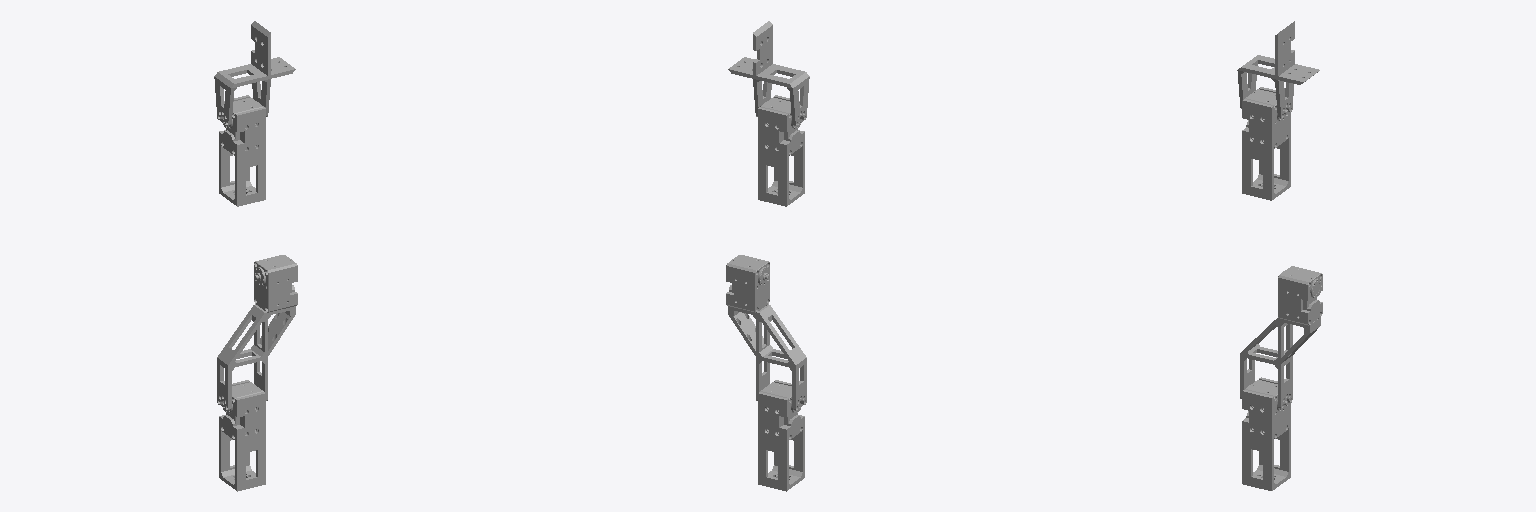
The robot description file, URDF, robot "manipulator":
<?xml version="1.0" ?>
<!-- =================================================================================== -->
<!-- |    This document was autogenerated by xacro from manipulator.xacro              | -->
<!-- |    EDITING THIS FILE BY HAND IS NOT RECOMMENDED                                 | -->
<!-- =================================================================================== -->
<robot name="manipulator">
  <material name="silver">
    <color rgba="0.700 0.700 0.700 1.000"/>
  </material>
  <transmission name="motor1_tran">
    <type>transmission_interface/SimpleTransmission</type>
    <joint name="motor1">
      <hardwareInterface>hardware_interface/EffortJointInterface</hardwareInterface>
    </joint>
    <actuator name="motor1_actr">
      <hardwareInterface>hardware_interface/EffortJointInterface</hardwareInterface>
      <mechanicalReduction>1</mechanicalReduction>
    </actuator>
  </transmission>
  <transmission name="motor2_tran">
    <type>transmission_interface/SimpleTransmission</type>
    <joint name="motor2">
      <hardwareInterface>hardware_interface/EffortJointInterface</hardwareInterface>
    </joint>
    <actuator name="motor2_actr">
      <hardwareInterface>hardware_interface/EffortJointInterface</hardwareInterface>
      <mechanicalReduction>1</mechanicalReduction>
    </actuator>
  </transmission>
  <transmission name="motor3_tran">
    <type>transmission_interface/SimpleTransmission</type>
    <joint name="motor3">
      <hardwareInterface>hardware_interface/EffortJointInterface</hardwareInterface>
    </joint>
    <actuator name="motor3_actr">
      <hardwareInterface>hardware_interface/EffortJointInterface</hardwareInterface>
      <mechanicalReduction>1</mechanicalReduction>
    </actuator>
  </transmission>
  <transmission name="motor4_tran">
    <type>transmission_interface/SimpleTransmission</type>
    <joint name="motor4">
      <hardwareInterface>hardware_interface/EffortJointInterface</hardwareInterface>
    </joint>
    <actuator name="motor4_actr">
      <hardwareInterface>hardware_interface/EffortJointInterface</hardwareInterface>
      <mechanicalReduction>1</mechanicalReduction>
    </actuator>
  </transmission>
  <transmission name="motor5_tran">
    <type>transmission_interface/SimpleTransmission</type>
    <joint name="motor5">
      <hardwareInterface>hardware_interface/EffortJointInterface</hardwareInterface>
    </joint>
    <actuator name="motor5_actr">
      <hardwareInterface>hardware_interface/EffortJointInterface</hardwareInterface>
      <mechanicalReduction>1</mechanicalReduction>
    </actuator>
  </transmission>
  <transmission name="motor6_tran">
    <type>transmission_interface/SimpleTransmission</type>
    <joint name="motor6">
      <hardwareInterface>hardware_interface/EffortJointInterface</hardwareInterface>
    </joint>
    <actuator name="motor6_actr">
      <hardwareInterface>hardware_interface/EffortJointInterface</hardwareInterface>
      <mechanicalReduction>1</mechanicalReduction>
    </actuator>
  </transmission>
  <gazebo>
    <plugin filename="libgazebo_ros_control.so" name="control"/>
  </gazebo>
  <gazebo reference="base_link">
    <material>Gazebo/Silver</material>
    <mu1>0.2</mu1>
    <mu2>0.2</mu2>
    <selfCollide>true</selfCollide>
    <gravity>true</gravity>
  </gazebo>
  <gazebo reference="case1_1">
    <material>Gazebo/Silver</material>
    <mu1>0.2</mu1>
    <mu2>0.2</mu2>
    <selfCollide>true</selfCollide>
  </gazebo>
  <gazebo reference="base2_1">
    <material>Gazebo/Silver</material>
    <mu1>0.2</mu1>
    <mu2>0.2</mu2>
    <selfCollide>true</selfCollide>
  </gazebo>
  <gazebo reference="link1_1">
    <material>Gazebo/Silver</material>
    <mu1>0.2</mu1>
    <mu2>0.2</mu2>
    <selfCollide>true</selfCollide>
  </gazebo>
  <gazebo reference="case2_1">
    <material>Gazebo/Silver</material>
    <mu1>0.2</mu1>
    <mu2>0.2</mu2>
    <selfCollide>true</selfCollide>
  </gazebo>
  <gazebo reference="link2_1">
    <material>Gazebo/Silver</material>
    <mu1>0.2</mu1>
    <mu2>0.2</mu2>
    <selfCollide>true</selfCollide>
  </gazebo>
  <gazebo reference="case3_1">
    <material>Gazebo/Silver</material>
    <mu1>0.2</mu1>
    <mu2>0.2</mu2>
    <selfCollide>true</selfCollide>
  </gazebo>
  <gazebo reference="link3_1">
    <material>Gazebo/Silver</material>
    <mu1>0.2</mu1>
    <mu2>0.2</mu2>
    <selfCollide>true</selfCollide>
  </gazebo>
  <gazebo reference="case4_1">
    <material>Gazebo/Silver</material>
    <mu1>0.2</mu1>
    <mu2>0.2</mu2>
    <selfCollide>true</selfCollide>
  </gazebo>
  <gazebo reference="link4_1">
    <material>Gazebo/Silver</material>
    <mu1>0.2</mu1>
    <mu2>0.2</mu2>
    <selfCollide>true</selfCollide>
  </gazebo>
  <gazebo reference="case5_1">
    <material>Gazebo/Silver</material>
    <mu1>0.2</mu1>
    <mu2>0.2</mu2>
    <selfCollide>true</selfCollide>
  </gazebo>
  <gazebo reference="link5_1">
    <material>Gazebo/Silver</material>
    <mu1>0.2</mu1>
    <mu2>0.2</mu2>
    <selfCollide>true</selfCollide>
  </gazebo>
  <gazebo reference="case6_1">
    <material>Gazebo/Silver</material>
    <mu1>0.2</mu1>
    <mu2>0.2</mu2>
    <selfCollide>true</selfCollide>
  </gazebo>
  <gazebo reference="link6_1">
    <material>Gazebo/Silver</material>
    <mu1>0.2</mu1>
    <mu2>0.2</mu2>
    <selfCollide>true</selfCollide>
  </gazebo>
  <gazebo reference="link7_1">
    <material>Gazebo/Silver</material>
    <mu1>0.2</mu1>
    <mu2>0.2</mu2>
    <selfCollide>true</selfCollide>
  </gazebo>
  <link name="base_link">
    <inertial>
      <origin rpy="0 0 0" xyz="0.02239590734911897 -0.01176063731820371 -0.05451857845527507"/>
      <mass value="0.408609033804223"/>
      <inertia ixx="0.001136" ixy="0.0" ixz="8.9e-05" iyy="0.000464" iyz="-1e-06" izz="0.000843"/>
    </inertial>
    <visual>
      <origin rpy="0 0 0" xyz="0 0 0"/>
      <geometry>
        <mesh filename="package://manipulator/meshes/base_link.stl" scale="0.001 0.001 0.001"/>
      </geometry>
      <material name="silver"/>
    </visual>
    <collision>
      <origin rpy="0 0 0" xyz="0 0 0"/>
      <geometry>
        <mesh filename="package://manipulator/meshes/base_link.stl" scale="0.001 0.001 0.001"/>
      </geometry>
    </collision>
  </link>
  <link name="case1_1">
    <inertial>
      <origin rpy="0 0 0" xyz="-0.014250070484127172 0.01640828355791238 -0.005433634059177349"/>
      <mass value="0.34080653415518675"/>
      <inertia ixx="9.4e-05" ixy="-0.0" ixz="-0.0" iyy="5.5e-05" iyz="0.0" izz="8.2e-05"/>
    </inertial>
    <visual>
      <origin rpy="0 0 0" xyz="-0.012868 0.027801 -0.001527"/>
      <geometry>
        <mesh filename="package://manipulator/meshes/case1_1.stl" scale="0.001 0.001 0.001"/>
      </geometry>
      <material name="silver"/>
    </visual>
    <collision>
      <origin rpy="0 0 0" xyz="-0.012868 0.027801 -0.001527"/>
      <geometry>
        <mesh filename="package://manipulator/meshes/case1_1.stl" scale="0.001 0.001 0.001"/>
      </geometry>
    </collision>
  </link>
  <link name="base2_1">
    <inertial>
      <origin rpy="0 0 0" xyz="-0.009528048317381948 0.016040362681779042 -0.056045578455275115"/>
      <mass value="0.4086090338042252"/>
      <inertia ixx="0.001136" ixy="-0.0" ixz="-8.9e-05" iyy="0.000464" iyz="-1e-06" izz="0.000843"/>
    </inertial>
    <visual>
      <origin rpy="0 0 0" xyz="0.015632 0.027801 -0.001527"/>
      <geometry>
        <mesh filename="package://manipulator/meshes/base2_1.stl" scale="0.001 0.001 0.001"/>
      </geometry>
      <material name="silver"/>
    </visual>
    <collision>
      <origin rpy="0 0 0" xyz="0.015632 0.027801 -0.001527"/>
      <geometry>
        <mesh filename="package://manipulator/meshes/base2_1.stl" scale="0.001 0.001 0.001"/>
      </geometry>
    </collision>
  </link>
  <link name="link1_1">
    <inertial>
      <origin rpy="0 0 0" xyz="0.00041157170309191976 -1.4624828903732844e-07 0.0450438228157928"/>
      <mass value="0.2016099043724989"/>
      <inertia ixx="0.000258" ixy="-0.0" ixz="-2e-06" iyy="0.00023" iyz="-0.0" izz="6.9e-05"/>
    </inertial>
    <visual>
      <origin rpy="0 0 0" xyz="0.001382 -0.000199 -0.014527"/>
      <geometry>
        <mesh filename="package://manipulator/meshes/link1_1.stl" scale="0.001 0.001 0.001"/>
      </geometry>
      <material name="silver"/>
    </visual>
    <collision>
      <origin rpy="0 0 0" xyz="0.001382 -0.000199 -0.014527"/>
      <geometry>
        <mesh filename="package://manipulator/meshes/link1_1.stl" scale="0.001 0.001 0.001"/>
      </geometry>
    </collision>
  </link>
  <link name="case2_1">
    <inertial>
      <origin rpy="0 0 0" xyz="0.006566487292350457 0.014249853751715245 0.01640823797054204"/>
      <mass value="0.34080653415518675"/>
      <inertia ixx="8.2e-05" ixy="-0.0" ixz="0.0" iyy="9.4e-05" iyz="-0.0" izz="5.5e-05"/>
    </inertial>
    <visual>
      <origin rpy="0 0 0" xyz="0.007382 0.014051 -0.075277"/>
      <geometry>
        <mesh filename="package://manipulator/meshes/case2_1.stl" scale="0.001 0.001 0.001"/>
      </geometry>
      <material name="silver"/>
    </visual>
    <collision>
      <origin rpy="0 0 0" xyz="0.007382 0.014051 -0.075277"/>
      <geometry>
        <mesh filename="package://manipulator/meshes/case2_1.stl" scale="0.001 0.001 0.001"/>
      </geometry>
    </collision>
  </link>
  <link name="link2_1">
    <inertial>
      <origin rpy="0 0 0" xyz="-0.004213732758277829 -1.462482890274351e-07 0.05761392703177749"/>
      <mass value="0.18470002339388275"/>
      <inertia ixx="0.000144" ixy="0.0" ixz="-6.7e-05" iyy="0.000231" iyz="0.0" izz="0.000104"/>
    </inertial>
    <visual>
      <origin rpy="0 0 0" xyz="-0.017618 -0.000199 -0.103277"/>
      <geometry>
        <mesh filename="package://manipulator/meshes/link2_1.stl" scale="0.001 0.001 0.001"/>
      </geometry>
      <material name="silver"/>
    </visual>
    <collision>
      <origin rpy="0 0 0" xyz="-0.017618 -0.000199 -0.103277"/>
      <geometry>
        <mesh filename="package://manipulator/meshes/link2_1.stl" scale="0.001 0.001 0.001"/>
      </geometry>
    </collision>
  </link>
  <link name="case3_1">
    <inertial>
      <origin rpy="0 0 0" xyz="0.005433371739386662 0.00799985375170667 0.023658237970542173"/>
      <mass value="0.34080653415518675"/>
      <inertia ixx="8.2e-05" ixy="-0.0" ixz="-0.0" iyy="9.4e-05" iyz="0.0" izz="5.5e-05"/>
    </inertial>
    <visual>
      <origin rpy="0 0 0" xyz="-0.030618 0.007801 -0.198927"/>
      <geometry>
        <mesh filename="package://manipulator/meshes/case3_1.stl" scale="0.001 0.001 0.001"/>
      </geometry>
      <material name="silver"/>
    </visual>
    <collision>
      <origin rpy="0 0 0" xyz="-0.030618 0.007801 -0.198927"/>
      <geometry>
        <mesh filename="package://manipulator/meshes/case3_1.stl" scale="0.001 0.001 0.001"/>
      </geometry>
    </collision>
  </link>
  <link name="link3_1">
    <inertial>
      <origin rpy="0 0 0" xyz="0.0016650787321817323 -1.4624828901480414e-07 0.05671011320901989"/>
      <mass value="0.25106312786468626"/>
      <inertia ixx="0.000153" ixy="-0.0" ixz="6.5e-05" iyy="0.000286" iyz="0.0" izz="0.000215"/>
    </inertial>
    <visual>
      <origin rpy="0 0 0" xyz="-0.017618 -0.000199 -0.234177"/>
      <geometry>
        <mesh filename="package://manipulator/meshes/link3_1.stl" scale="0.001 0.001 0.001"/>
      </geometry>
      <material name="silver"/>
    </visual>
    <collision>
      <origin rpy="0 0 0" xyz="-0.017618 -0.000199 -0.234177"/>
      <geometry>
        <mesh filename="package://manipulator/meshes/link3_1.stl" scale="0.001 0.001 0.001"/>
      </geometry>
    </collision>
  </link>
  <link name="case4_1">
    <inertial>
      <origin rpy="0 0 0" xyz="0.01640835932206992 0.014249853751706763 -0.005433634059177295"/>
      <mass value="0.34080653415518675"/>
      <inertia ixx="5.5e-05" ixy="0.0" ixz="0.0" iyy="9.4e-05" iyz="0.0" izz="8.2e-05"/>
    </inertial>
    <visual>
      <origin rpy="0 0 0" xyz="0.029382 0.014051 -0.313327"/>
      <geometry>
        <mesh filename="package://manipulator/meshes/case4_1.stl" scale="0.001 0.001 0.001"/>
      </geometry>
      <material name="silver"/>
    </visual>
    <collision>
      <origin rpy="0 0 0" xyz="0.029382 0.014051 -0.313327"/>
      <geometry>
        <mesh filename="package://manipulator/meshes/case4_1.stl" scale="0.001 0.001 0.001"/>
      </geometry>
    </collision>
  </link>
  <link name="link4_1">
    <inertial>
      <origin rpy="0 0 0" xyz="0.00041157170309193483 -1.4624828901919516e-07 0.04504382281579289"/>
      <mass value="0.2016099043724985"/>
      <inertia ixx="0.000258" ixy="-0.0" ixz="-2e-06" iyy="0.00023" iyz="0.0" izz="6.9e-05"/>
    </inertial>
    <visual>
      <origin rpy="0 0 0" xyz="0.001382 -0.000199 -0.326327"/>
      <geometry>
        <mesh filename="package://manipulator/meshes/link4_1.stl" scale="0.001 0.001 0.001"/>
      </geometry>
      <material name="silver"/>
    </visual>
    <collision>
      <origin rpy="0 0 0" xyz="0.001382 -0.000199 -0.326327"/>
      <geometry>
        <mesh filename="package://manipulator/meshes/link4_1.stl" scale="0.001 0.001 0.001"/>
      </geometry>
    </collision>
  </link>
  <link name="case5_1">
    <inertial>
      <origin rpy="0 0 0" xyz="-0.005433512707649504 -0.014250146248284797 -0.0075917620294578825"/>
      <mass value="0.34080653415518675"/>
      <inertia ixx="8.2e-05" ixy="-0.0" ixz="0.0" iyy="9.4e-05" iyz="-0.0" izz="5.5e-05"/>
    </inertial>
    <visual>
      <origin rpy="0 0 0" xyz="-0.004618 -0.014449 -0.411077"/>
      <geometry>
        <mesh filename="package://manipulator/meshes/case5_1.stl" scale="0.001 0.001 0.001"/>
      </geometry>
      <material name="silver"/>
    </visual>
    <collision>
      <origin rpy="0 0 0" xyz="-0.004618 -0.014449 -0.411077"/>
      <geometry>
        <mesh filename="package://manipulator/meshes/case5_1.stl" scale="0.001 0.001 0.001"/>
      </geometry>
    </collision>
  </link>
  <link name="link5_1">
    <inertial>
      <origin rpy="0 0 0" xyz="-0.007731817816433031 -0.00025506341510029255 0.0424196457662081"/>
      <mass value="0.1643237934541035"/>
      <inertia ixx="8.1e-05" ixy="0.0" ixz="-2.4e-05" iyy="0.000131" iyz="1e-06" izz="8.1e-05"/>
    </inertial>
    <visual>
      <origin rpy="0 0 0" xyz="-0.017618 -0.000199 -0.415077"/>
      <geometry>
        <mesh filename="package://manipulator/meshes/link5_1.stl" scale="0.001 0.001 0.001"/>
      </geometry>
      <material name="silver"/>
    </visual>
    <collision>
      <origin rpy="0 0 0" xyz="-0.017618 -0.000199 -0.415077"/>
      <geometry>
        <mesh filename="package://manipulator/meshes/link5_1.stl" scale="0.001 0.001 0.001"/>
      </geometry>
    </collision>
  </link>
  <link name="case6_1">
    <inertial>
      <origin rpy="0 0 0" xyz="-0.008000070484127209 -0.006566704024770846 0.023658237970542118"/>
      <mass value="0.34080653415518675"/>
      <inertia ixx="9.4e-05" ixy="0.0" ixz="-0.0" iyy="8.2e-05" iyz="-0.0" izz="5.5e-05"/>
    </inertial>
    <visual>
      <origin rpy="0 0 0" xyz="-0.043868 -0.006199 -0.460727"/>
      <geometry>
        <mesh filename="package://manipulator/meshes/case6_1.stl" scale="0.001 0.001 0.001"/>
      </geometry>
      <material name="silver"/>
    </visual>
    <collision>
      <origin rpy="0 0 0" xyz="-0.043868 -0.006199 -0.460727"/>
      <geometry>
        <mesh filename="package://manipulator/meshes/case6_1.stl" scale="0.001 0.001 0.001"/>
      </geometry>
    </collision>
  </link>
  <link name="link6_1">
    <inertial>
      <origin rpy="0 0 0" xyz="0.003970831683360154 -0.006329811420383323 0.03690785967114296"/>
      <mass value="0.25174373584366844"/>
      <inertia ixx="0.000389" ixy="0.0" ixz="-0.0" iyy="0.000354" iyz="-4e-06" izz="3.8e-05"/>
    </inertial>
    <visual>
      <origin rpy="0 0 0" xyz="-0.050118 -0.006199 -0.491977"/>
      <geometry>
        <mesh filename="package://manipulator/meshes/link6_1.stl" scale="0.001 0.001 0.001"/>
      </geometry>
      <material name="silver"/>
    </visual>
    <collision>
      <origin rpy="0 0 0" xyz="-0.050118 -0.006199 -0.491977"/>
      <geometry>
        <mesh filename="package://manipulator/meshes/link6_1.stl" scale="0.001 0.001 0.001"/>
      </geometry>
    </collision>
  </link>
  <link name="link7_1">
    <inertial>
      <origin rpy="0 0 0" xyz="-0.023072508481003125 0.018999853751710906 0.05456040638673598"/>
      <mass value="0.15138355095135578"/>
      <inertia ixx="0.000171" ixy="-0.0" ixz="2e-05" iyy="0.00014" iyz="-0.0" izz="4.5e-05"/>
    </inertial>
    <visual>
      <origin rpy="0 0 0" xyz="-0.035868 0.018801 -0.495977"/>
      <geometry>
        <mesh filename="package://manipulator/meshes/link7_1.stl" scale="0.001 0.001 0.001"/>
      </geometry>
      <material name="silver"/>
    </visual>
    <collision>
      <origin rpy="0 0 0" xyz="-0.035868 0.018801 -0.495977"/>
      <geometry>
        <mesh filename="package://manipulator/meshes/link7_1.stl" scale="0.001 0.001 0.001"/>
      </geometry>
    </collision>
  </link>
  <joint name="°?ÃŒ 46" type="fixed">
    <origin rpy="0 0 0" xyz="0.012868 -0.027801 0.001527"/>
    <parent link="base_link"/>
    <child link="case1_1"/>
  </joint>
  <joint name="°?ÃŒ 47" type="fixed">
    <origin rpy="0 0 0" xyz="-0.0285 0.0 0.0"/>
    <parent link="case1_1"/>
    <child link="base2_1"/>
  </joint>
  <joint name="motor1" type="continuous">
    <origin rpy="0 0 0" xyz="-0.01425 0.028 0.013"/>
    <parent link="case1_1"/>
    <child link="link1_1"/>
    <axis xyz="0.0 0.0 1.0"/>
  </joint>
  <joint name="°?ÃŒ 49" type="fixed">
    <origin rpy="0 0 0" xyz="-0.006 -0.01425 0.06075"/>
    <parent link="link1_1"/>
    <child link="case2_1"/>
  </joint>
  <joint name="motor2" type="continuous">
    <origin rpy="0 0 0" xyz="0.025 0.01425 0.028"/>
    <parent link="case2_1"/>
    <child link="link2_1"/>
    <axis xyz="1.0 -0.0 -0.0"/>
  </joint>
  <joint name="°?ÃŒ 51" type="fixed">
    <origin rpy="0 0 0" xyz="0.013 -0.008 0.09565"/>
    <parent link="link2_1"/>
    <child link="case3_1"/>
  </joint>
  <joint name="motor3" type="continuous">
    <origin rpy="0 0 0" xyz="-0.013 0.008 0.03525"/>
    <parent link="case3_1"/>
    <child link="link3_1"/>
    <axis xyz="-1.0 0.0 0.0"/>
  </joint>
  <joint name="°?ÃŒ 53" type="fixed">
    <origin rpy="0 0 0" xyz="-0.047 -0.01425 0.07915"/>
    <parent link="link3_1"/>
    <child link="case4_1"/>
  </joint>
  <joint name="motor4" type="continuous">
    <origin rpy="0 0 0" xyz="0.028 0.01425 0.013"/>
    <parent link="case4_1"/>
    <child link="link4_1"/>
    <axis xyz="0.0 0.0 1.0"/>
  </joint>
  <joint name="°?ÃŒ 55" type="fixed">
    <origin rpy="0 0 0" xyz="0.006 0.01425 0.08475"/>
    <parent link="link4_1"/>
    <child link="case5_1"/>
  </joint>
  <joint name="motor5" type="continuous">
    <origin rpy="0 0 0" xyz="0.013 -0.01425 0.004"/>
    <parent link="case5_1"/>
    <child link="link5_1"/>
    <axis xyz="1.0 -0.0 -0.0"/>
  </joint>
  <joint name="°?ÃŒ 57" type="fixed">
    <origin rpy="0 0 0" xyz="0.02625 0.006 0.04565"/>
    <parent link="link5_1"/>
    <child link="case6_1"/>
  </joint>
  <joint name="°?ÃŒ 58" type="fixed">
    <origin rpy="0 0 0" xyz="0.00625 0.0 0.03125"/>
    <parent link="case6_1"/>
    <child link="link6_1"/>
  </joint>
  <joint name="motor6" type="continuous">
    <origin rpy="0 0 0" xyz="-0.008 -0.025 0.03525"/>
    <parent link="case6_1"/>
    <child link="link7_1"/>
    <axis xyz="-0.0 -1.0 -0.0"/>
  </joint>
</robot>

--- What the picture shows (computed from the rendered views, not written in the file) ---
The picture shows the robot from 3 angles, left to right: view 1: azimuth 30°, elevation 25°; view 2: azimuth 150°, elevation 25°; view 3: azimuth 330°, elevation 25°; orthographic projection.
Robot: manipulator — 15 links, 14 joints (6 continuous, 8 fixed); root link base_link; default pose: every joint at zero.
Visible links, largest first — view 1: link2_1, link1_1, link4_1, link5_1, case3_1, case2_1, case5_1; view 2: link2_1, link1_1, link4_1, link5_1, case3_1, case2_1, case5_1; view 3: link1_1, link4_1, link5_1, link2_1, case3_1, case2_1, case5_1.
Boxes of the visible links, box(x1,y1,x2,y2) form: link2_1: box(217, 304, 295, 410); link1_1: box(219, 380, 265, 491); link4_1: box(219, 95, 265, 206); link5_1: box(214, 21, 295, 125); case3_1: box(254, 255, 297, 312); case2_1: box(221, 382, 263, 439); case5_1: box(221, 97, 263, 155); link2_1: box(728, 304, 806, 410); link1_1: box(758, 380, 804, 491); link4_1: box(758, 95, 804, 206); link5_1: box(728, 21, 809, 125); case3_1: box(726, 255, 769, 312); case2_1: box(760, 382, 802, 439); case5_1: box(760, 97, 802, 155); link1_1: box(1242, 377, 1290, 490); link4_1: box(1242, 87, 1290, 200); link5_1: box(1237, 21, 1319, 118); link2_1: box(1240, 317, 1320, 408); case3_1: box(1278, 266, 1322, 325); case2_1: box(1244, 380, 1288, 438); case5_1: box(1245, 89, 1288, 148).
Size in the robot's own frame: 0.08 by 0.0365 by 0.4927 metres.
7 mesh visuals loaded from 15 distinct referenced files (7 binary STL); not drawn: 8 (file found but could not be loaded).